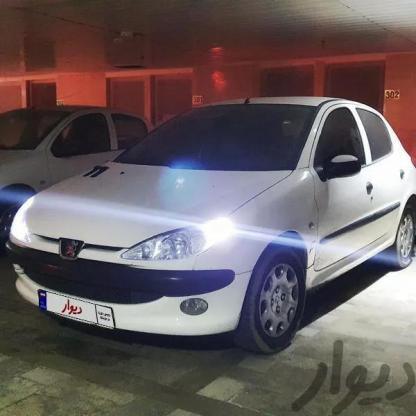Car: (0, 92, 416, 341), (0, 105, 141, 226)
